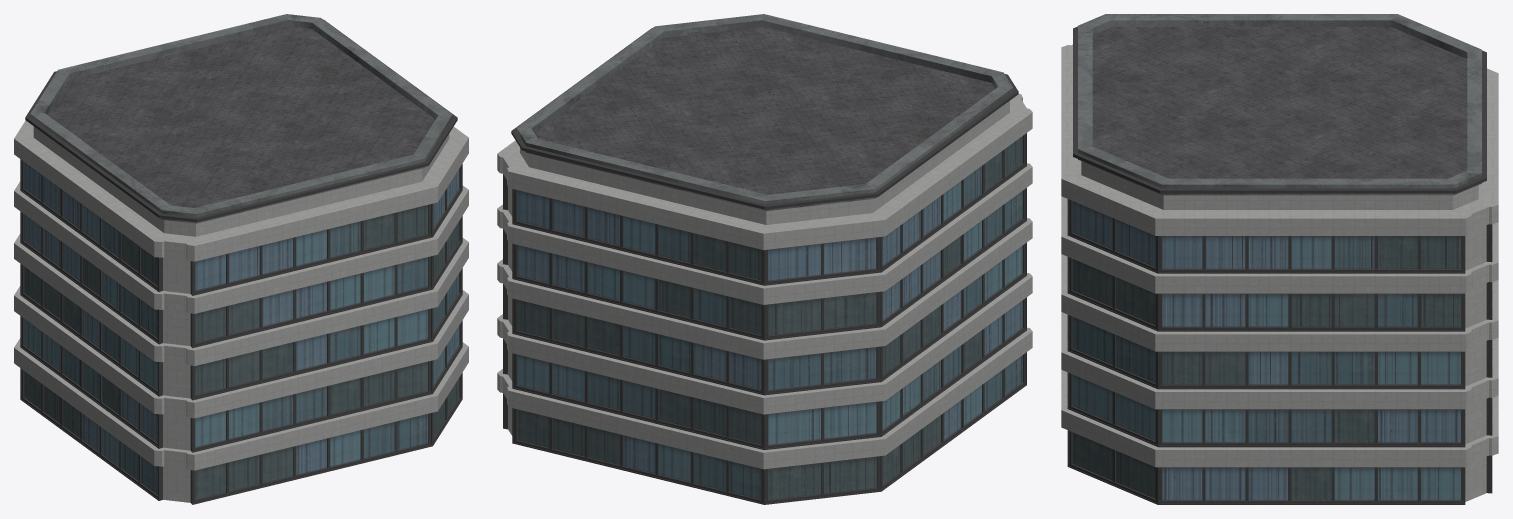
File: jctBld24_C_top.fbx
3 renders of one model, left to right at view 1: azimuth 30°, elevation 25°; view 2: azimuth 150°, elevation 25°; view 3: azimuth 270°, elevation 25°, orthographic. The views are drawn at different scales.
Parts seen in each view (by area): view 1: jctBld24_C_top_LOD0; view 2: jctBld24_C_top_LOD0; view 3: jctBld24_C_top_LOD0.
Boxes of the visible parts, x1,y1,x2,y2 form: jctBld24_C_top_LOD0: [14, 14, 468, 504]; jctBld24_C_top_LOD0: [497, 14, 1032, 504]; jctBld24_C_top_LOD0: [1061, 14, 1498, 504].
Size of the model in its own units: 2058 by 1638 by 2058.
